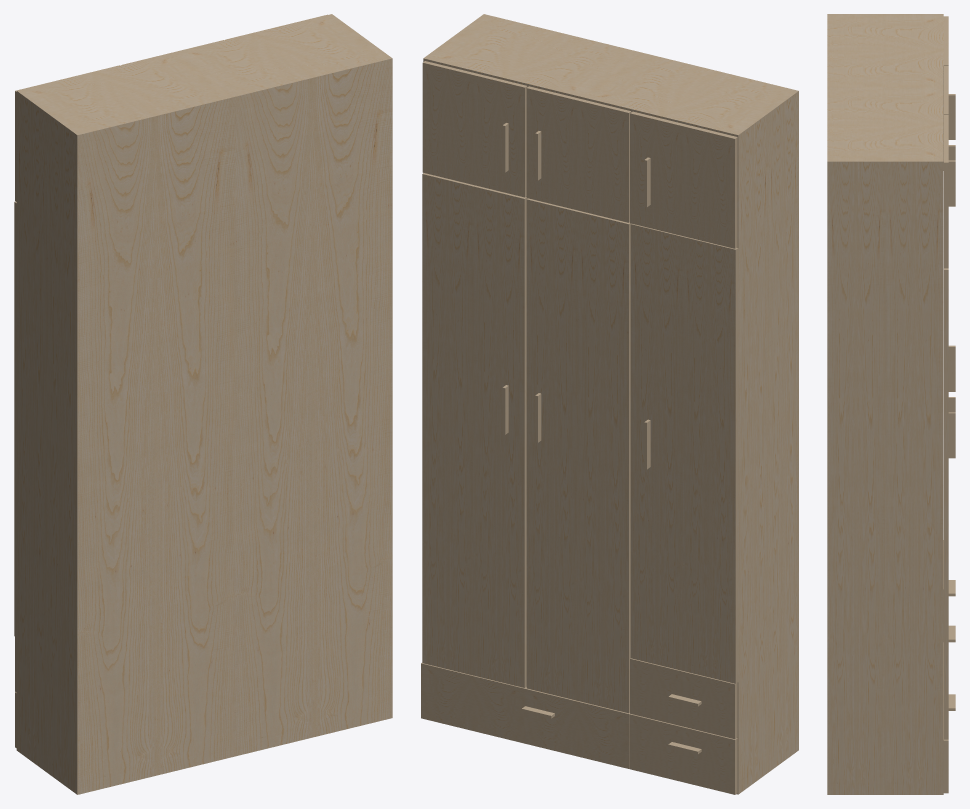
Rendered from schraenke.fbx.
3 views of the same model, side by side, from view 1: azimuth 30°, elevation 25°; view 2: azimuth 150°, elevation 25°; view 3: azimuth 270°, elevation 25° (orthographic). The views are drawn at different scales.
Parts seen in each view (by area): view 1: schraenke; view 2: schraenke; view 3: schraenke.
Boxes of the visible parts, <box> form: schraenke: <box>14,14,392,794</box>; schraenke: <box>421,14,798,794</box>; schraenke: <box>827,14,955,794</box>.
Size of the model in its own units: 300 by 599 by 110.
